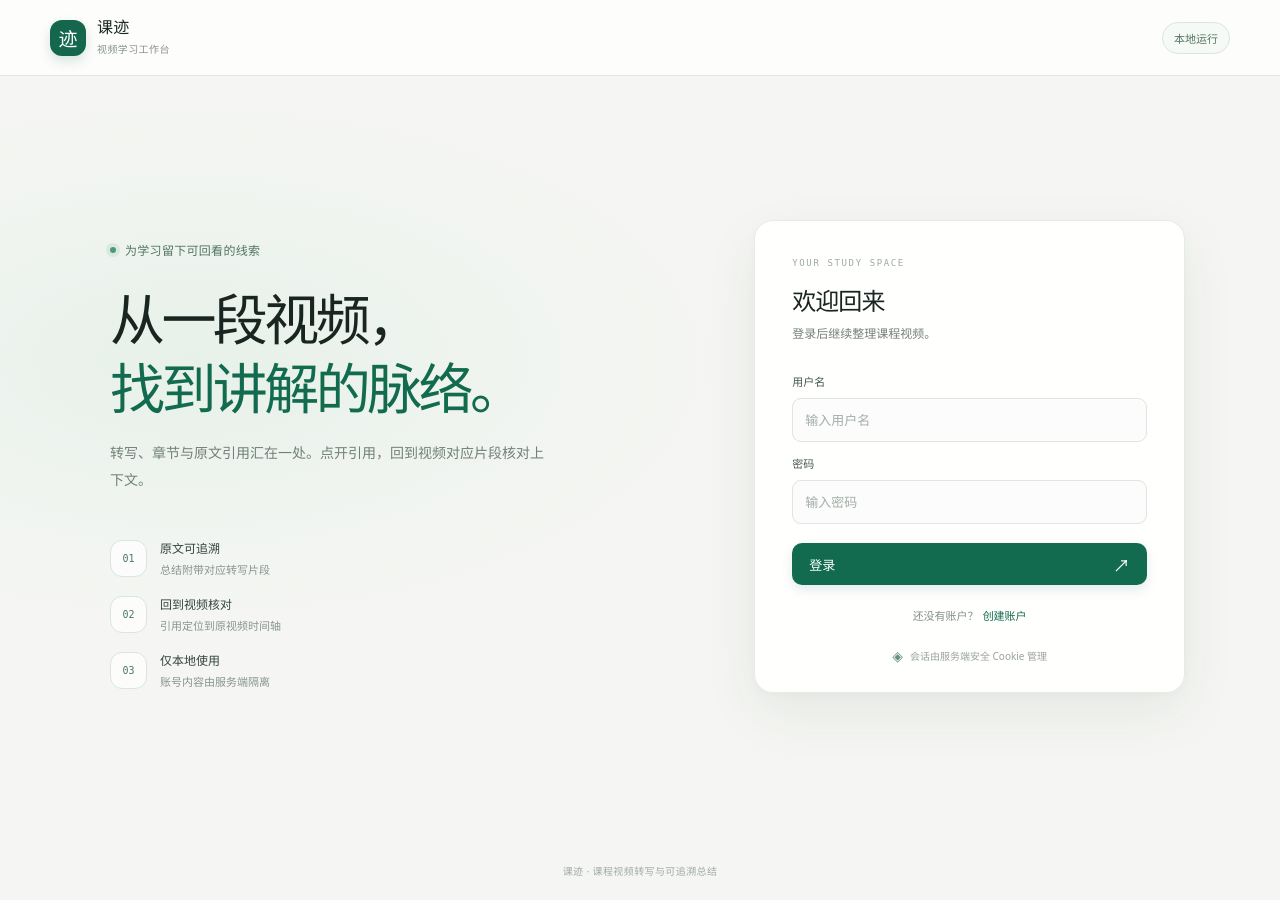
Test: authentication entry › gets a short-lived CSRF value, registers through the same-origin API, and keeps it out of persistent browser storage
Expected: the heading "欢迎回来" is shown, [792,284,884,317]
Click the button "创建账户": click(1005, 615) [983,607,1027,623]
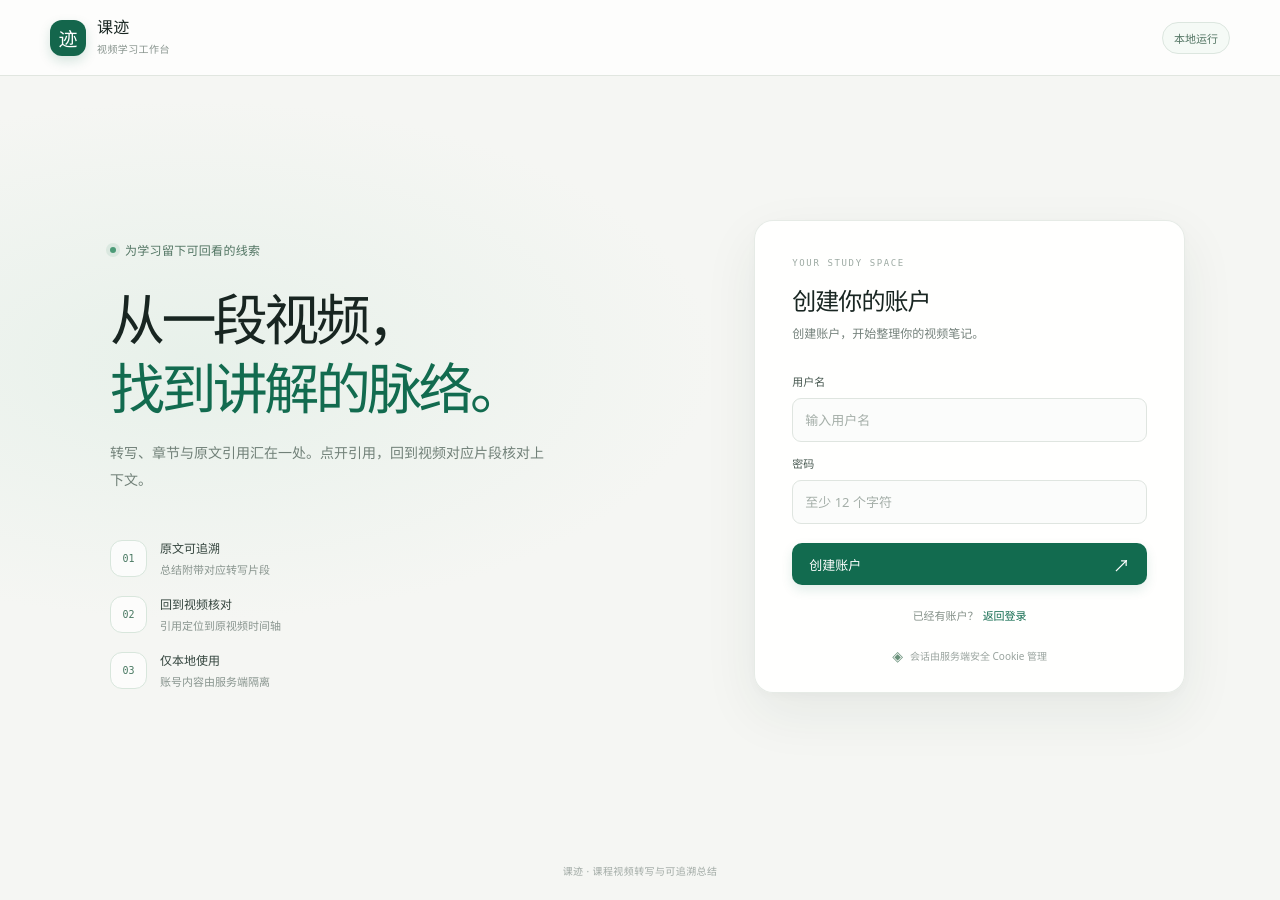
In the field labelled "用户名": (970, 420) [792,398,1147,442], type "learner-1"
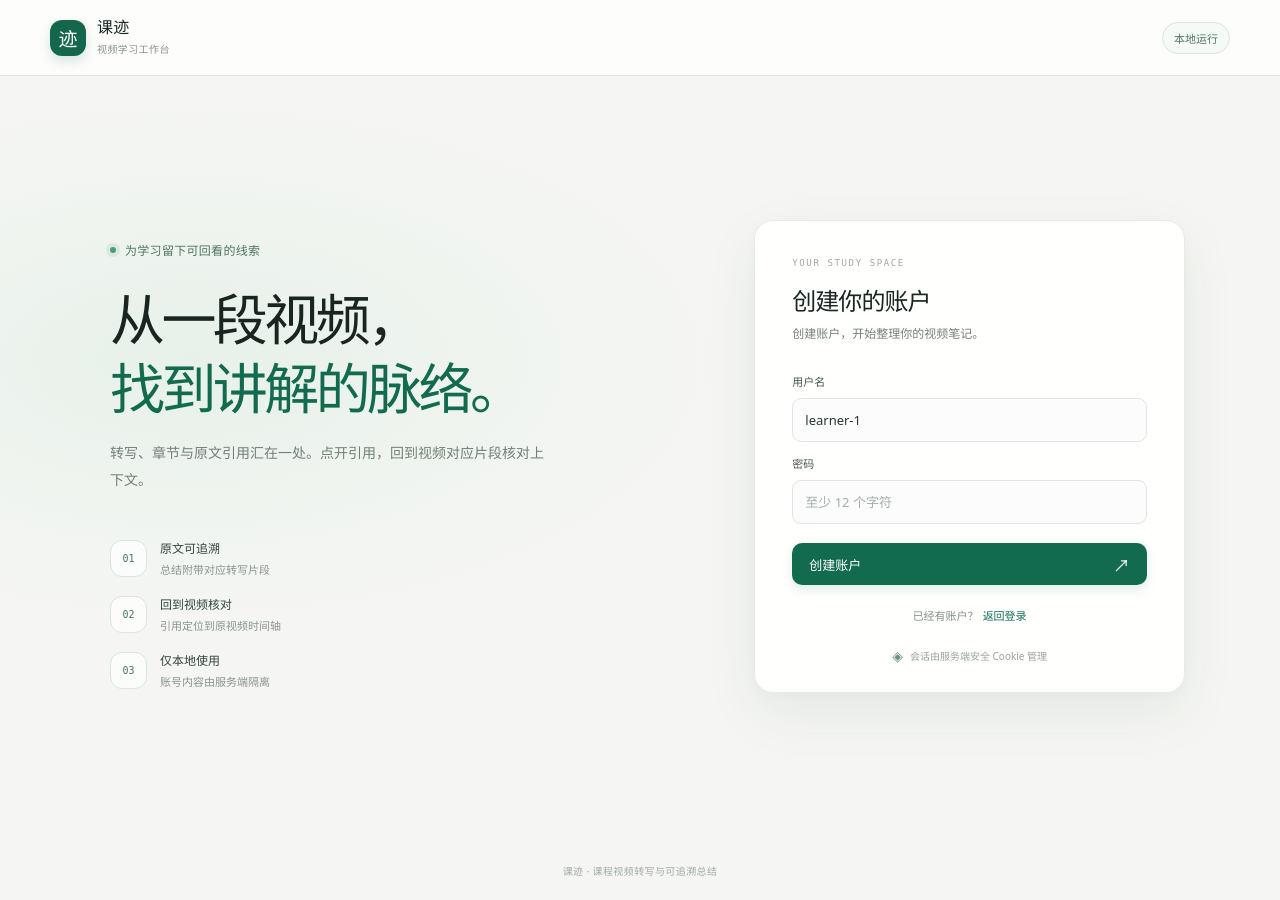
In the password field labelled "密码": (970, 502) [792,480,1147,524], type "ValidPassphrase1!"
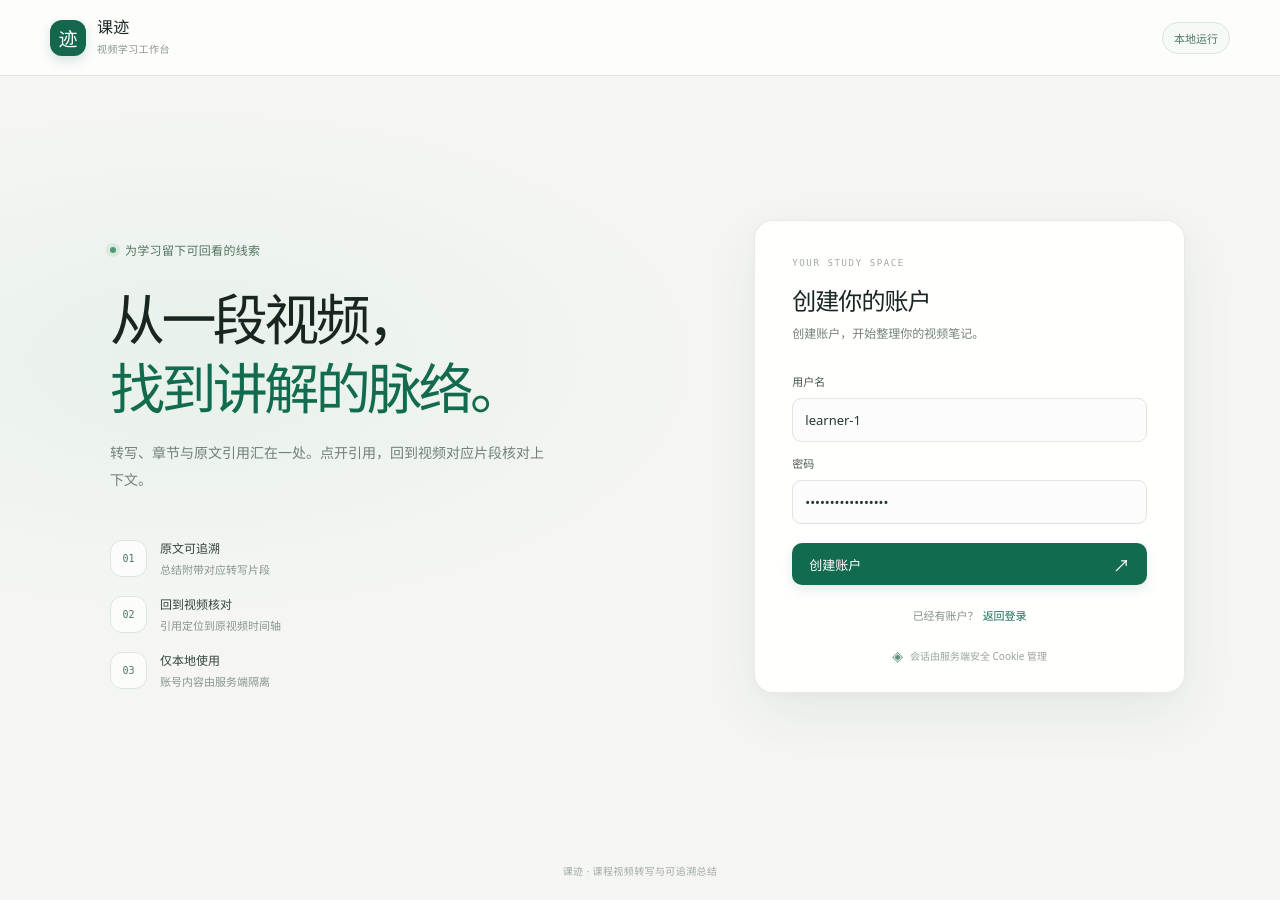
Click the button "创建账户 ↗": click(835, 564) [792,543,1147,585]
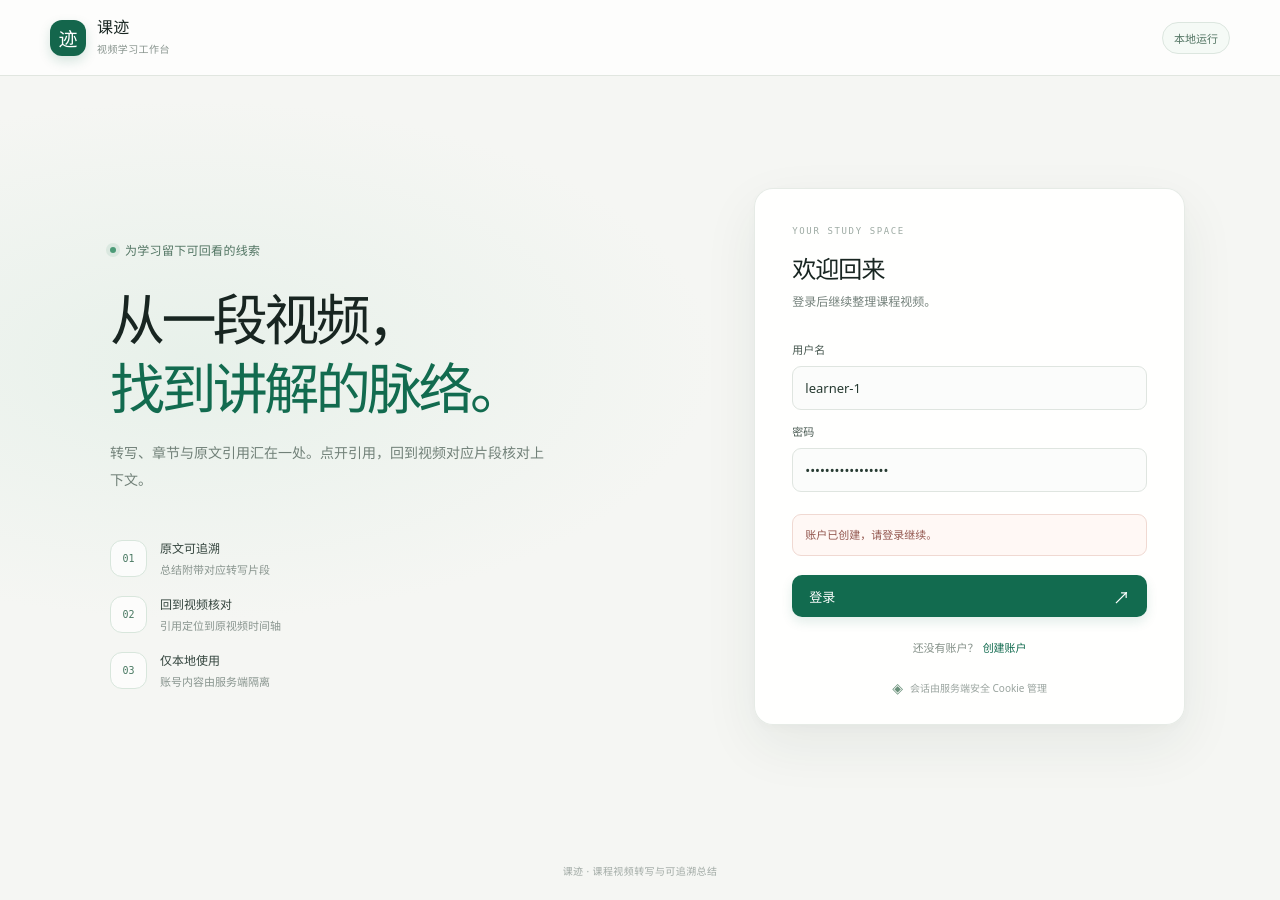
Expected: the text "账户已创建，请登录继续。" is shown, [792,514,1147,556]
